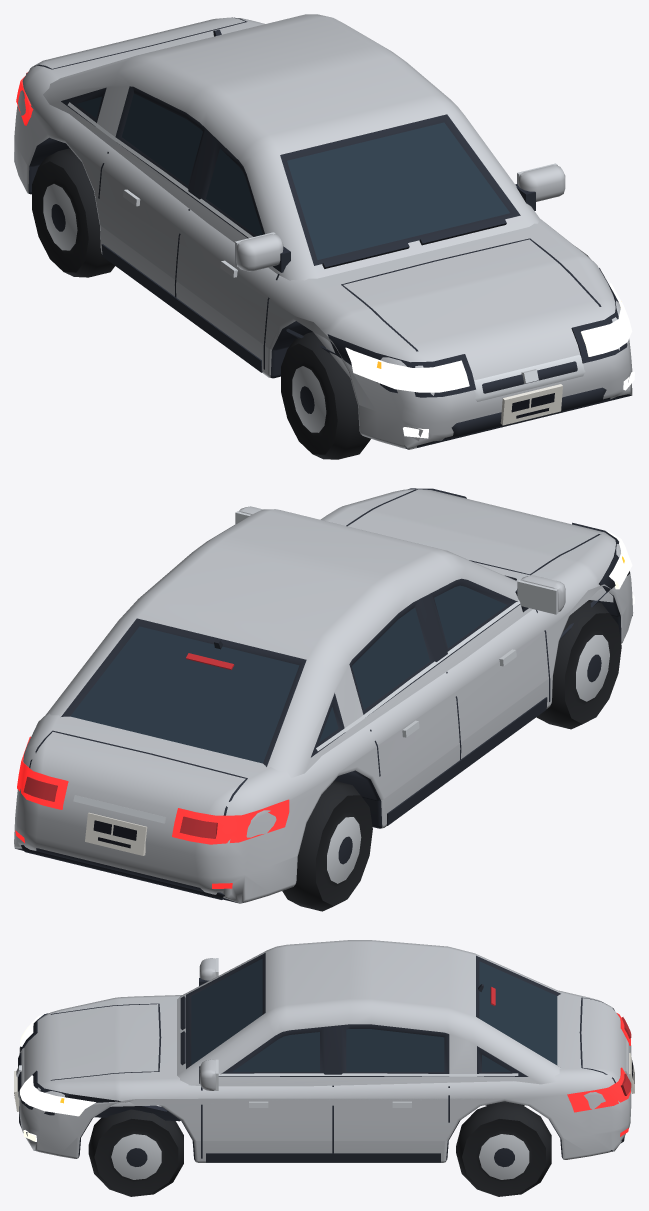
File: veh_sedan.glb
The picture shows the model from 3 angles, top to bottom: view 1: azimuth 30°, elevation 25°; view 2: azimuth 150°, elevation 25°; view 3: azimuth 270°, elevation 25°; orthographic projection. The views are drawn at different scales.
Parts seen in each view (by area): view 1: body, wheel_FR, wheel_RR, head_lights, mirror_R, mirror_L; view 2: body, wheel_RR, wheel_FR, mirror_R, brake_lights, head_lights; view 3: body, wheel_RL, wheel_FL, head_lights, mirror_L, mirror_R.
Boxes of the visible parts, x1,y1,x2,y2 form: body: (14, 14, 632, 449); wheel_FR: (281, 332, 370, 459); wheel_RR: (32, 148, 114, 277); head_lights: (345, 283, 634, 438); mirror_R: (235, 232, 290, 272); mirror_L: (515, 163, 565, 210); body: (14, 488, 633, 903); wheel_RR: (282, 780, 372, 911); wheel_FR: (536, 600, 621, 729); mirror_R: (515, 575, 565, 614); brake_lights: (23, 653, 234, 838); head_lights: (388, 488, 634, 604); body: (14, 940, 634, 1162); wheel_RL: (456, 1102, 551, 1196); wheel_FL: (88, 1109, 183, 1196); head_lights: (20, 1012, 96, 1141); mirror_L: (199, 1059, 218, 1090); mirror_R: (199, 958, 218, 985).
Size of the model in its own units: 2 by 1.43 by 4.49.
